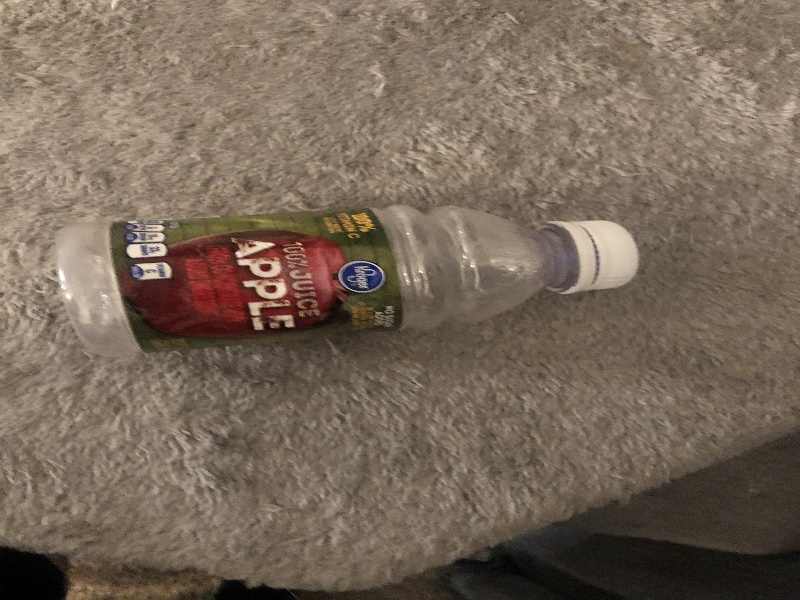plastic: (45, 203, 644, 360)
